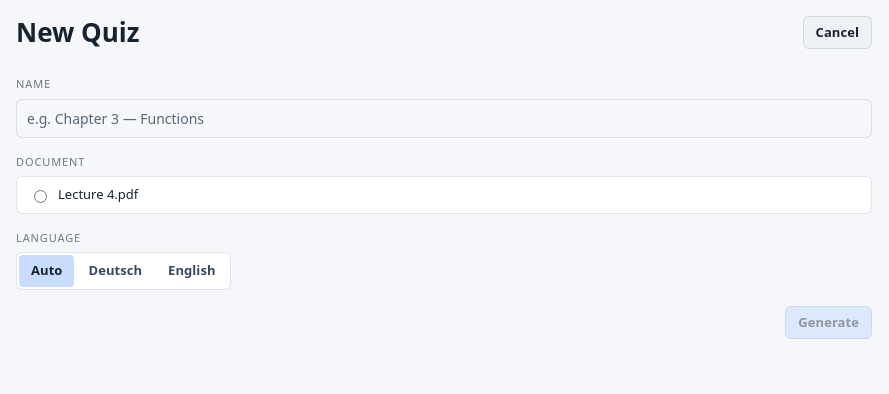
Test: CreateQuizDialog › drops the file extension when auto-filling the name
This screenshot has width=889, height=394.
Click the radio button labelled "Lecture 4.pdf".
click(40, 196)  # box [34,190,47,203]
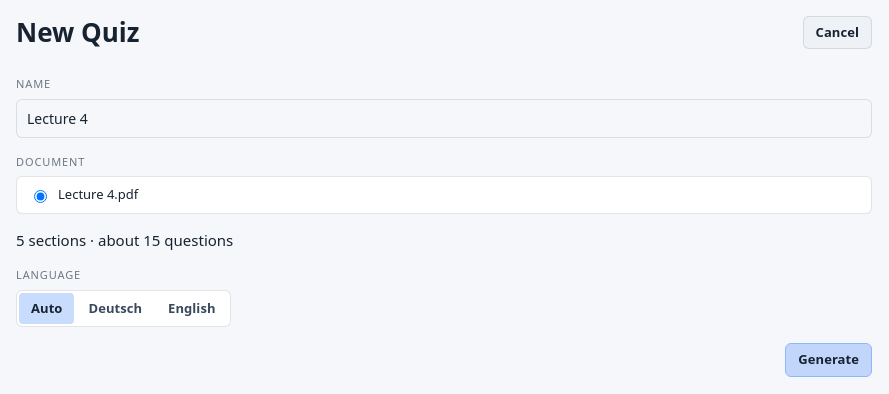
Now the field holds "Lecture 4", box [16,98,872,138]
